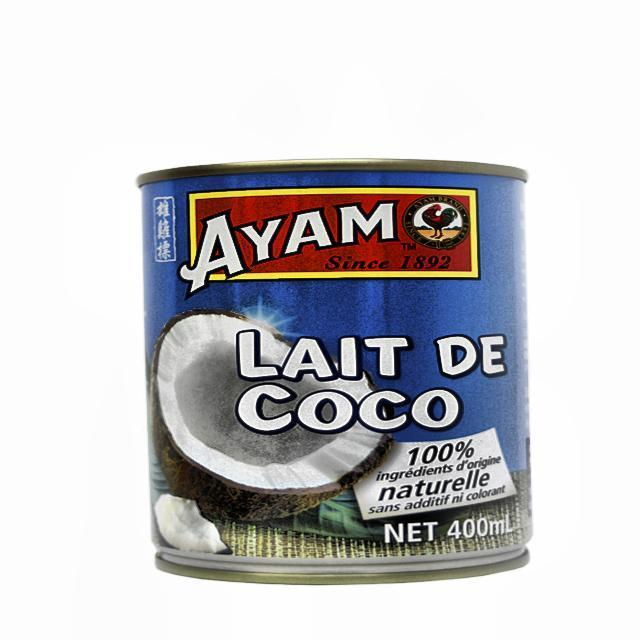cardboard: (136, 158, 533, 584)
